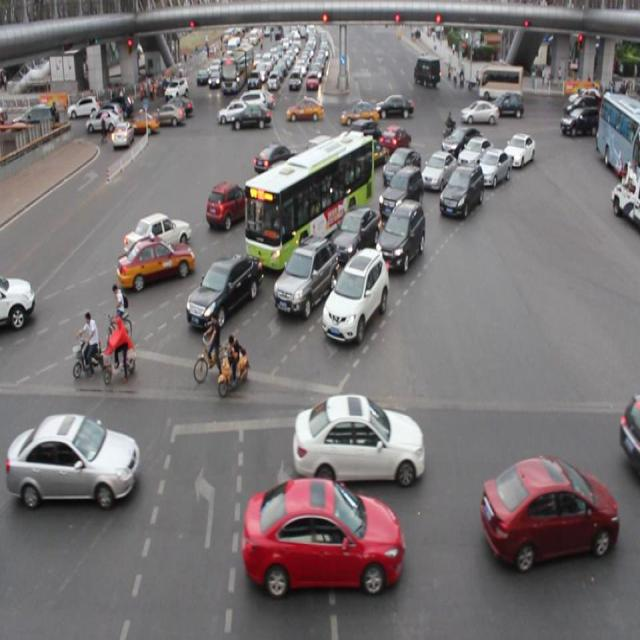car: (242, 478, 403, 592), (481, 450, 615, 560), (9, 412, 140, 505), (292, 393, 422, 484), (322, 246, 388, 343), (188, 254, 263, 323), (275, 238, 336, 314), (118, 238, 195, 287), (377, 199, 424, 270), (328, 206, 381, 264), (124, 212, 191, 256), (438, 161, 483, 219), (376, 166, 422, 218), (206, 182, 252, 230), (262, 160, 308, 201), (257, 191, 300, 230), (1, 276, 35, 325), (382, 146, 420, 188), (324, 151, 364, 189), (253, 142, 296, 177), (421, 151, 456, 192), (476, 147, 509, 188), (441, 125, 481, 158), (352, 136, 388, 172), (457, 136, 492, 171), (347, 117, 381, 153), (503, 132, 534, 169), (378, 125, 411, 156)
truck: (302, 135, 343, 177)
van: (246, 134, 374, 268)
